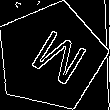M_SW: (17, 23, 84, 90)
